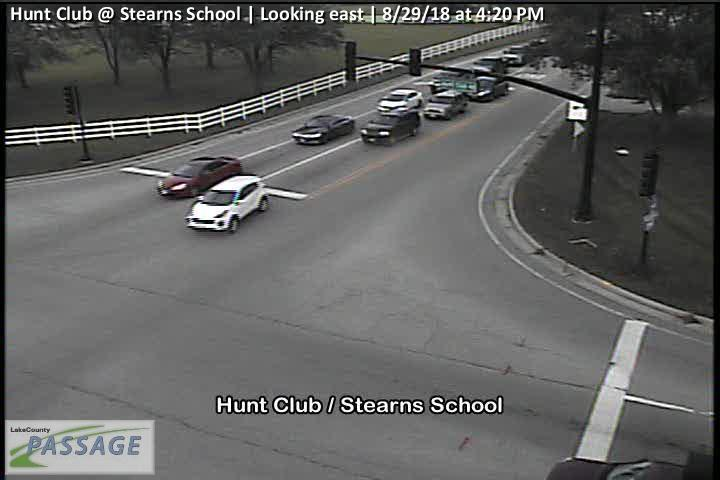SUV: (184, 175, 269, 234)
Sedan: (153, 155, 242, 199), (360, 109, 418, 145), (291, 113, 354, 146), (424, 91, 469, 120), (375, 88, 424, 113), (466, 75, 509, 102)
